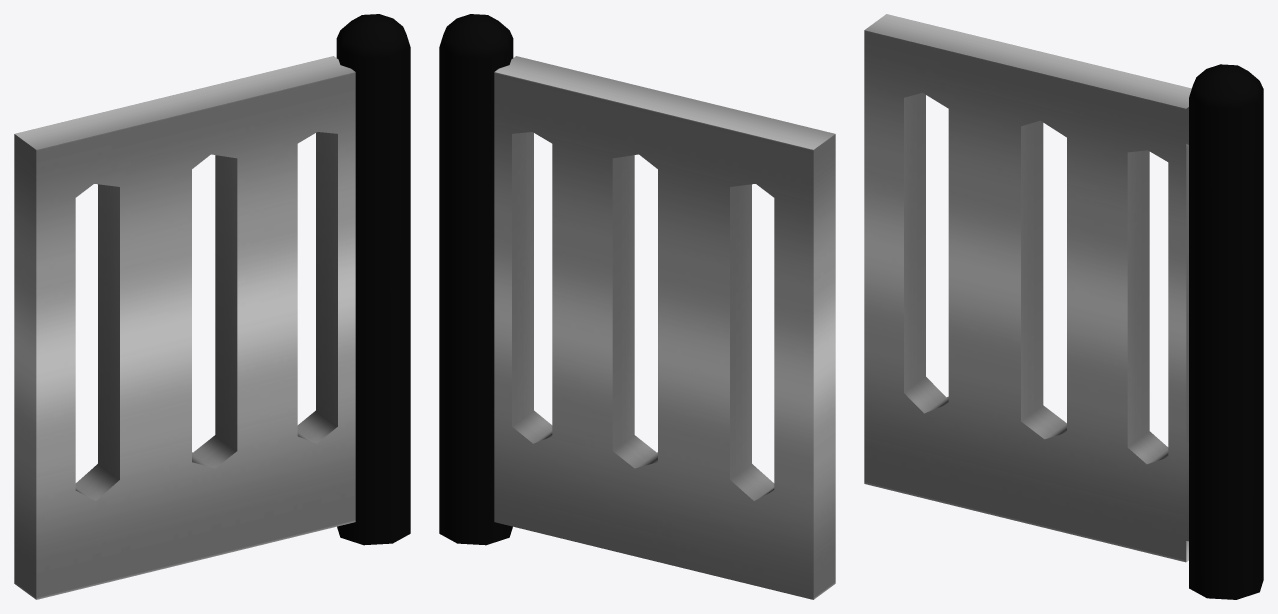
The model's file is halfgate_thricehissize.fbx.
3 renders of one model, left to right at view 1: azimuth 30°, elevation 25°; view 2: azimuth 150°, elevation 25°; view 3: azimuth 330°, elevation 25°, orthographic.
Parts seen in each view (by area): view 1: pCube1; view 2: pCube1; view 3: pCube1.
Part boxes in pixels (box(x1,y1,x2,y2)): pCube1: box(14, 14, 410, 599); pCube1: box(439, 14, 835, 599); pCube1: box(864, 14, 1263, 599).
Bounding box in the file's own units: 170 × 220 × 29.65.
Materials: 1 (1 with a texture image).
